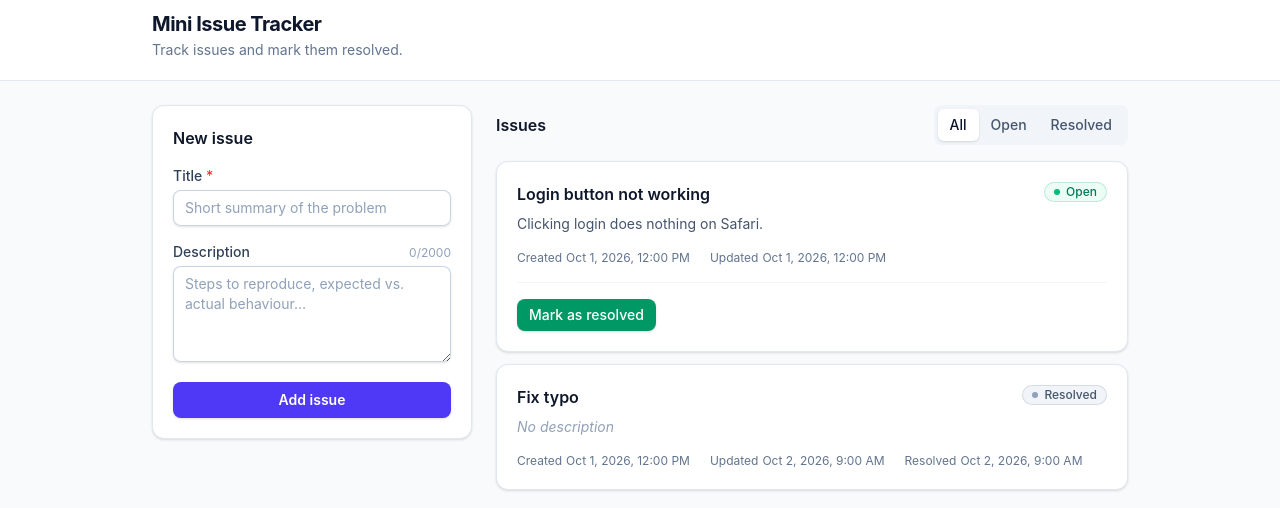
Test case: App › shows an error on the item when resolving fails
Click the button "Mark as resolved" at (586, 315), box [517,299,656,331]
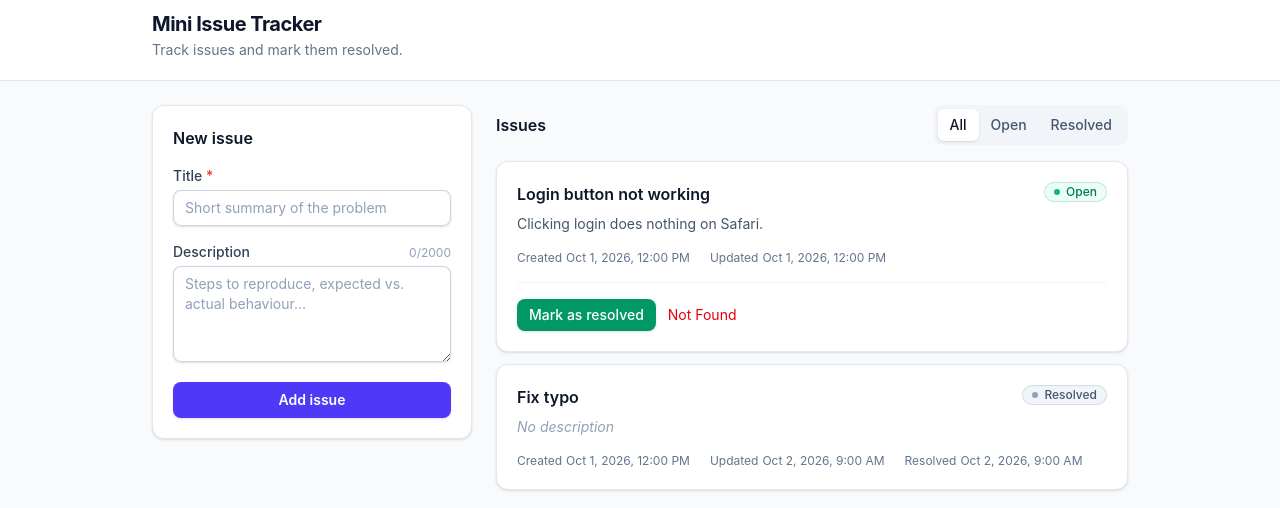
Expected: the message reads "Not Found", [668,306,736,323]
